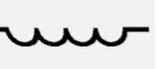inductor: (2, 16, 131, 53)
